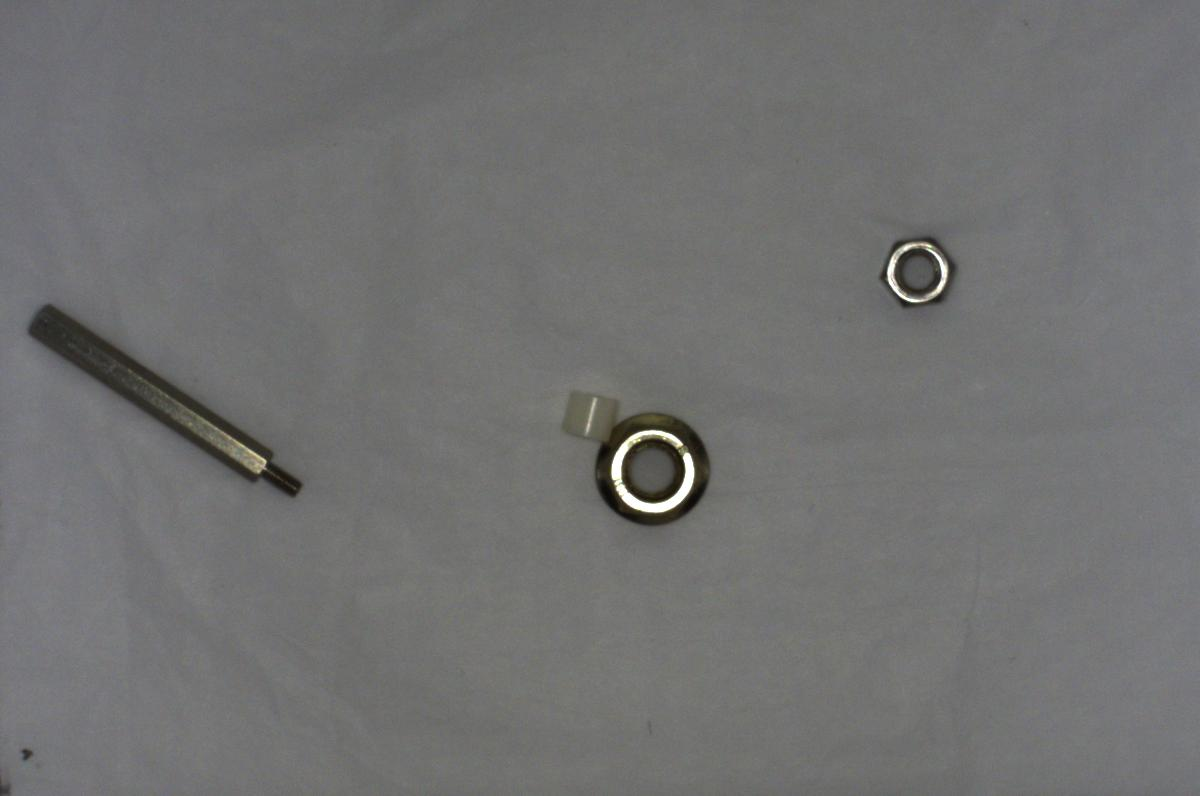Flange nut: (582, 410, 725, 525)
Hexagon nut: (870, 230, 960, 319)
Hexagonal steel column: (26, 302, 302, 503)
Plastic cushion pillar: (551, 381, 624, 442)
